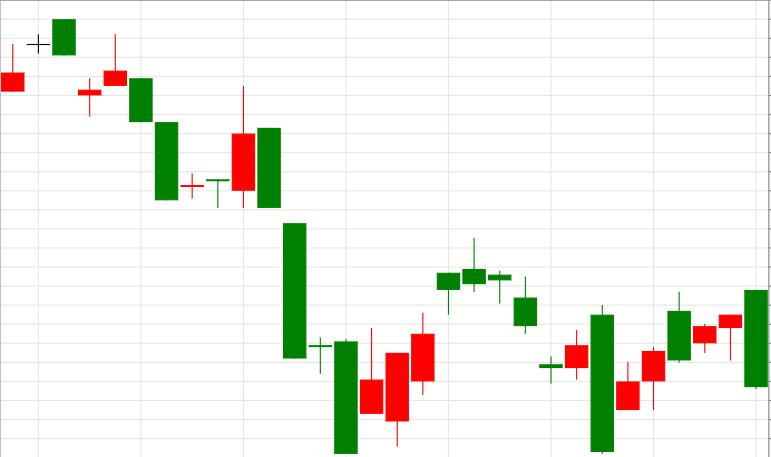bearish_engulfing_fall: (616, 290, 769, 411)
inverse_hammer_rise: (258, 128, 383, 454)
